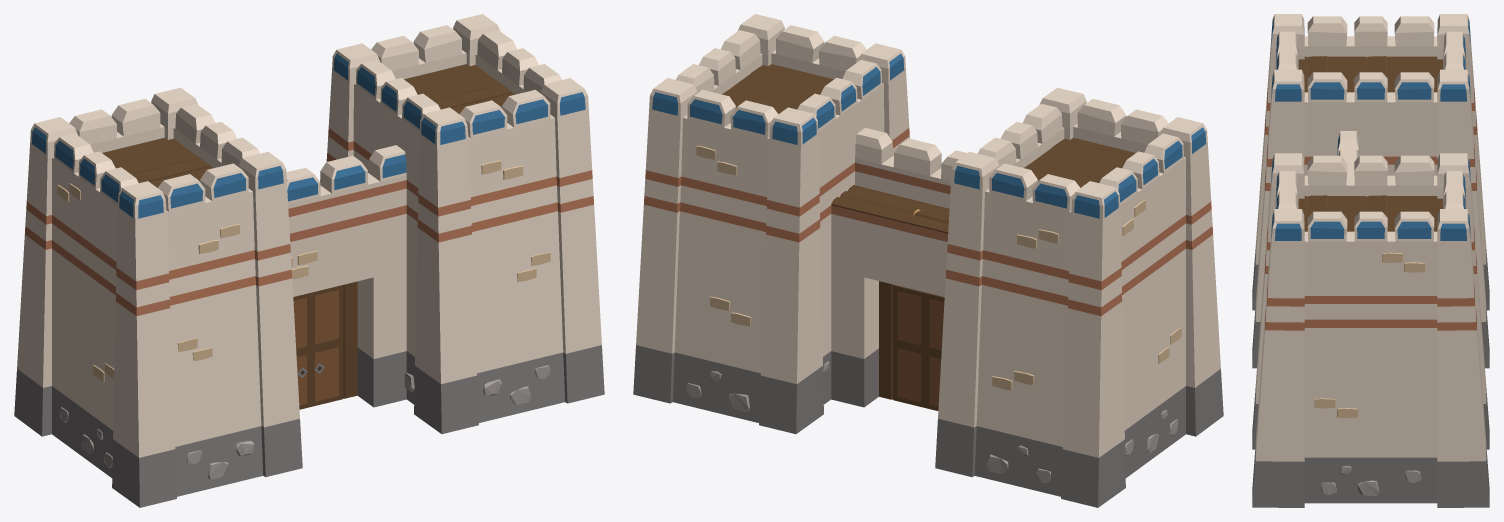
File: empire-gate-fortified-empire.glb
3 views of the same model, side by side, from view 1: azimuth 30°, elevation 25°; view 2: azimuth 150°, elevation 25°; view 3: azimuth 270°, elevation 25° (orthographic). The views are drawn at different scales.
Visible parts, largest first — view 1: SM_Gate_Fortified_Empire; view 2: SM_Gate_Fortified_Empire; view 3: SM_Gate_Fortified_Empire.
Part boxes in pixels (box(x1,y1,x2,y2)): SM_Gate_Fortified_Empire: box(14, 14, 604, 507); SM_Gate_Fortified_Empire: box(633, 14, 1223, 507); SM_Gate_Fortified_Empire: box(1252, 14, 1489, 507).
Size of the model in its own units: 17.09 by 10.53 by 8.
